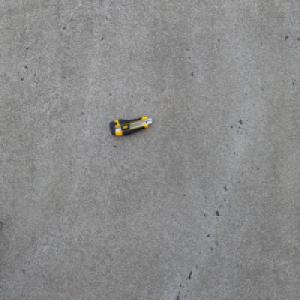Cutter: (109, 116, 152, 136)
